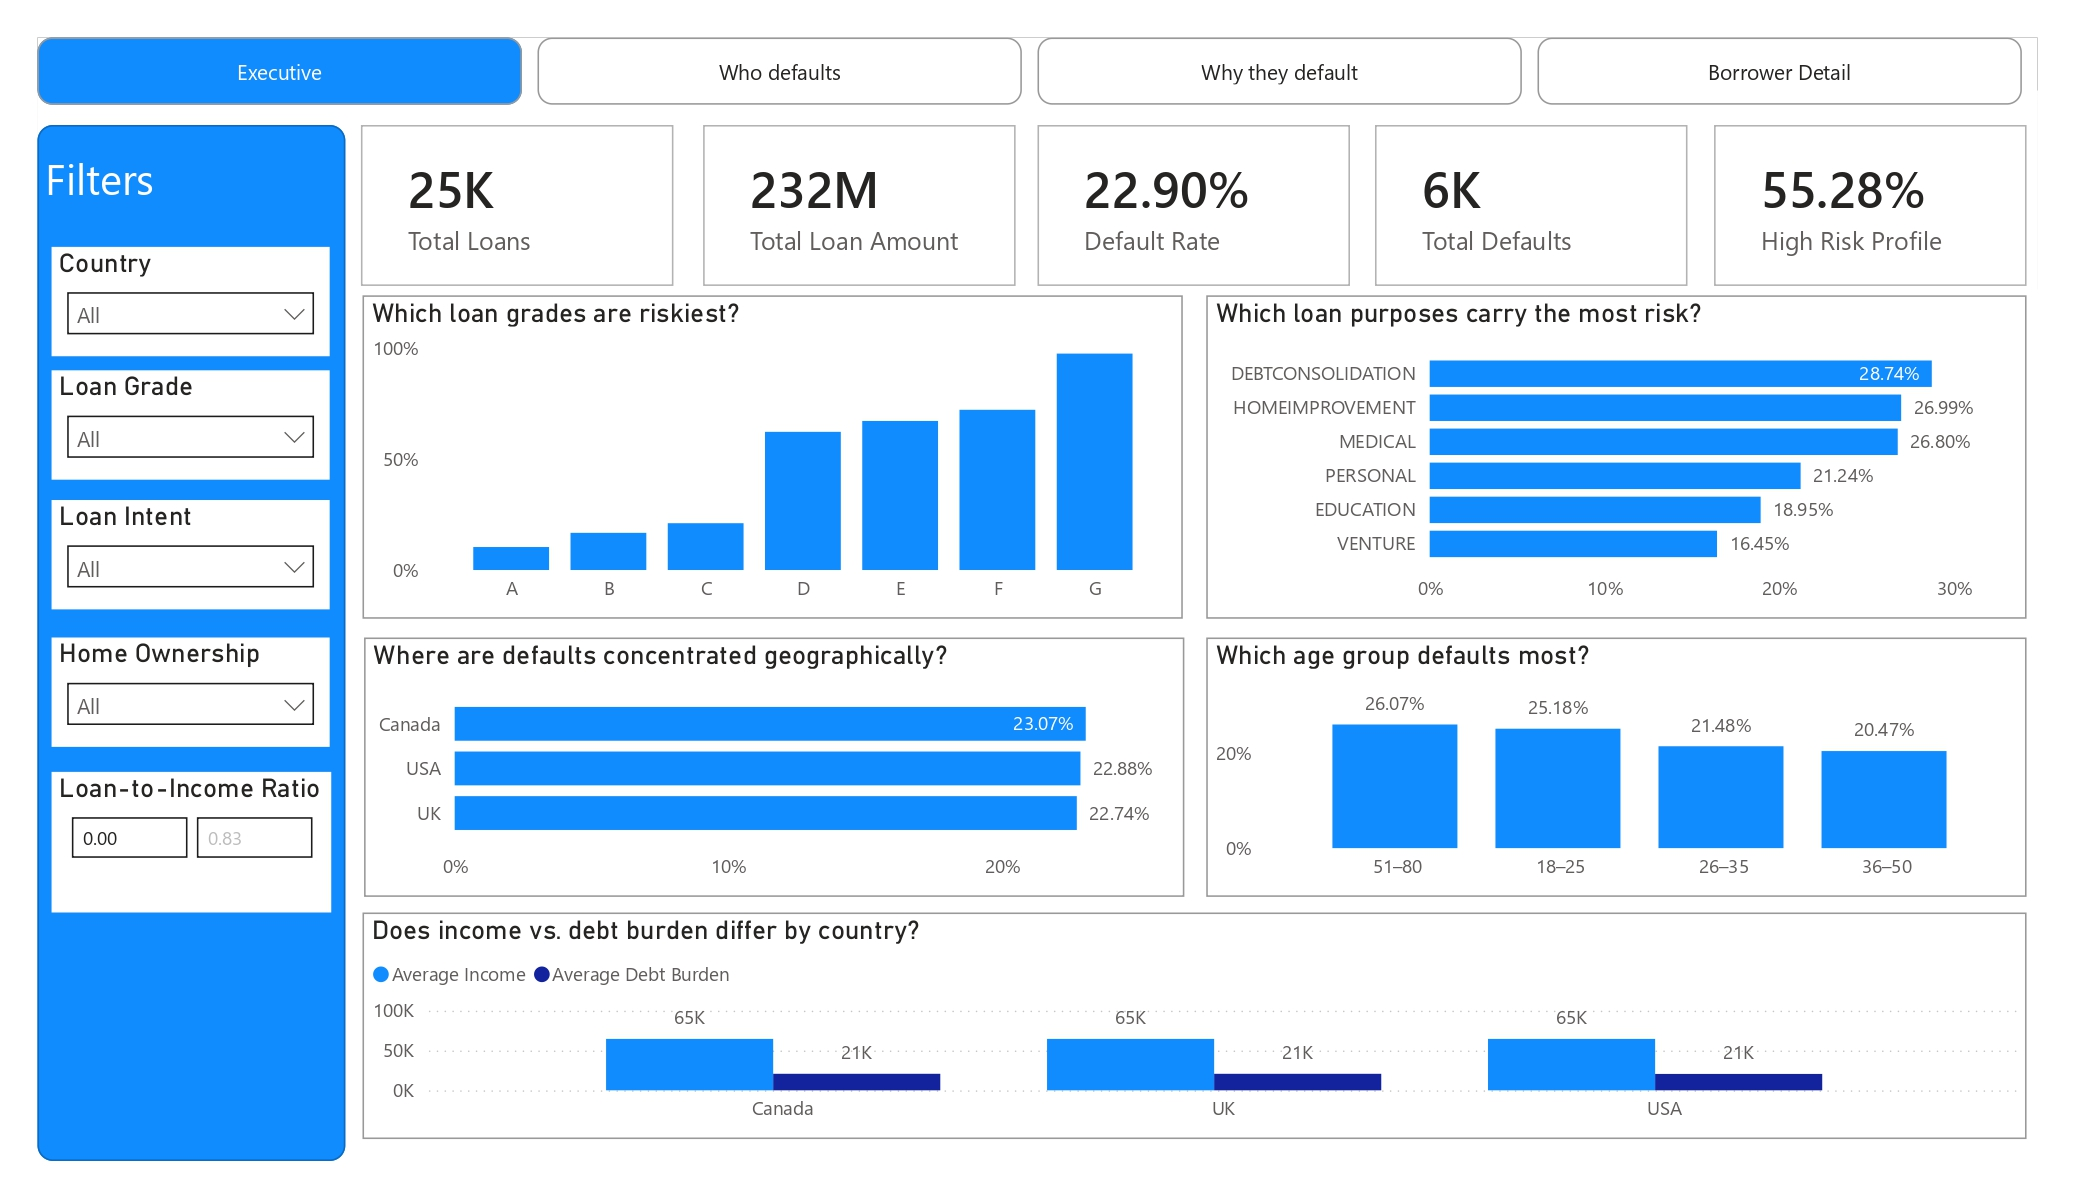

This screenshot's page, from the dashboard's own definition file:
{"tool":"powerbi","page":{"name":"Executive","canvas":[1280,720],"ordinal":0},"visuals":[{"type":"shape","box":[0,55.7,197.1,662.9],"z":0},{"type":"cardVisual","fields":{"Data":["_Measures.Overall Total Loans"]},"box":[207.1,55.7,200,102.9],"z":1000},{"type":"cardVisual","fields":{"Data":["_Measures.Overall Total Loan Amount"]},"box":[425.7,55.7,200,102.9],"z":2000},{"type":"cardVisual","fields":{"Data":["_Measures.Overall Default Rate"]},"box":[640,55.7,200,102.9],"z":3000},{"type":"cardVisual","fields":{"Data":["_Measures.Overall Total Defaults"]},"box":[855.7,55.7,200,102.9],"z":4000},{"type":"clusteredBarChart","title":"Where are defaults concentrated geographically?","fields":{"Category":["Dim_Geography.country Hierarchy.country","Dim_Geography.country Hierarchy.state"],"Y":["_Measures.Default Rate %"]},"box":[209,384.4,525,165.4],"z":5000},{"type":"lineClusteredColumnComboChart","title":"Which loan grades are riskiest?","fields":{"Category":["Dim_Loan_Type.loan_grade"],"Y":["_Measures.Default Rate %"],"Y2":["_Measures.Overall Default Rate"]},"box":[207.7,165.4,525,206.5],"z":6000},{"type":"clusteredBarChart","title":"Which loan purposes carry the most risk?","fields":{"Category":["Dim_Loan_Type.loan_intent"],"Y":["_Measures.Default Rate %"]},"box":[747.6,165.4,525,206.5],"z":7000},{"type":"cardVisual","fields":{"Data":["_Measures.Overall Default Rate (High Risk Profile)"]},"box":[1072.9,55.7,200,102.9],"z":8000},{"type":"pageNavigator","box":[0,0,1272.9,42.9],"z":9000},{"type":"textbox","box":[0,67.1,198.6,52.9],"z":10000},{"type":"clusteredColumnChart","title":"Which age group defaults most?","fields":{"Category":["Dim_Borrower.Age_Group"],"Y":["_Measures.Default Rate %"]},"box":[747.6,384.4,525,165.4],"z":11000},{"type":"slicer","title":"Country","fields":{"Values":["Dim_Geography.country"]},"box":[8.6,134.3,178.6,70],"z":12000},{"type":"slicer","title":"Loan Grade","fields":{"Values":["Dim_Loan_Type.loan_grade"]},"box":[8.6,212.9,178.6,70],"z":13000},{"type":"slicer","title":"Loan Intent","fields":{"Values":["Dim_Loan_Type.loan_intent"]},"box":[8.6,295.7,178.6,70],"z":14000},{"type":"slicer","title":"Home Ownership","fields":{"Values":["Dim_Borrower.person_home_ownership"]},"box":[8.6,384.3,178.6,70],"z":15000},{"type":"slicer","title":"Loan-to-Income Ratio","fields":{"Values":["Fact_CreditRisk.loan_to_income_ratio"]},"box":[8.7,470.3,178.9,89.5],"z":16000},{"type":"clusteredColumnChart","title":"Does income vs. debt burden differ by country? ","fields":{"Category":["Dim_Geography.country"],"Y":["_Measures.Average Income","_Measures.Average Debt Burden"]},"box":[207.7,559.8,1064.8,145.5],"z":17000}]}

Visuals, with their boxes on the page's 1280x720 design canvas (x1, y1, x2, y2). These are canvas units, not pixel positions in the 2075x1200 screenshot, which may show the page scaled, cropped or inside an application window:
shape: {"x1": 0, "y1": 56, "x2": 197, "y2": 719}
cardVisual - _Measures.Overall Total Loans: {"x1": 207, "y1": 56, "x2": 407, "y2": 159}
cardVisual - _Measures.Overall Total Loan Amount: {"x1": 426, "y1": 56, "x2": 626, "y2": 159}
cardVisual - _Measures.Overall Default Rate: {"x1": 640, "y1": 56, "x2": 840, "y2": 159}
cardVisual - _Measures.Overall Total Defaults: {"x1": 856, "y1": 56, "x2": 1056, "y2": 159}
"Where are defaults concentrated geographically?" clusteredBarChart: {"x1": 209, "y1": 384, "x2": 734, "y2": 550}
"Which loan grades are riskiest?" lineClusteredColumnComboChart: {"x1": 208, "y1": 165, "x2": 733, "y2": 372}
"Which loan purposes carry the most risk?" clusteredBarChart: {"x1": 748, "y1": 165, "x2": 1273, "y2": 372}
cardVisual - _Measures.Overall Default Rate (High Risk Profile): {"x1": 1073, "y1": 56, "x2": 1273, "y2": 159}
pageNavigator: {"x1": 0, "y1": 0, "x2": 1273, "y2": 43}
textbox: {"x1": 0, "y1": 67, "x2": 199, "y2": 120}
"Which age group defaults most?" clusteredColumnChart: {"x1": 748, "y1": 384, "x2": 1273, "y2": 550}
"Country" slicer: {"x1": 9, "y1": 134, "x2": 187, "y2": 204}
"Loan Grade" slicer: {"x1": 9, "y1": 213, "x2": 187, "y2": 283}
"Loan Intent" slicer: {"x1": 9, "y1": 296, "x2": 187, "y2": 366}
"Home Ownership" slicer: {"x1": 9, "y1": 384, "x2": 187, "y2": 454}
"Loan-to-Income Ratio" slicer: {"x1": 9, "y1": 470, "x2": 188, "y2": 560}
"Does income vs. debt burden differ by country? " clusteredColumnChart: {"x1": 208, "y1": 560, "x2": 1272, "y2": 705}
